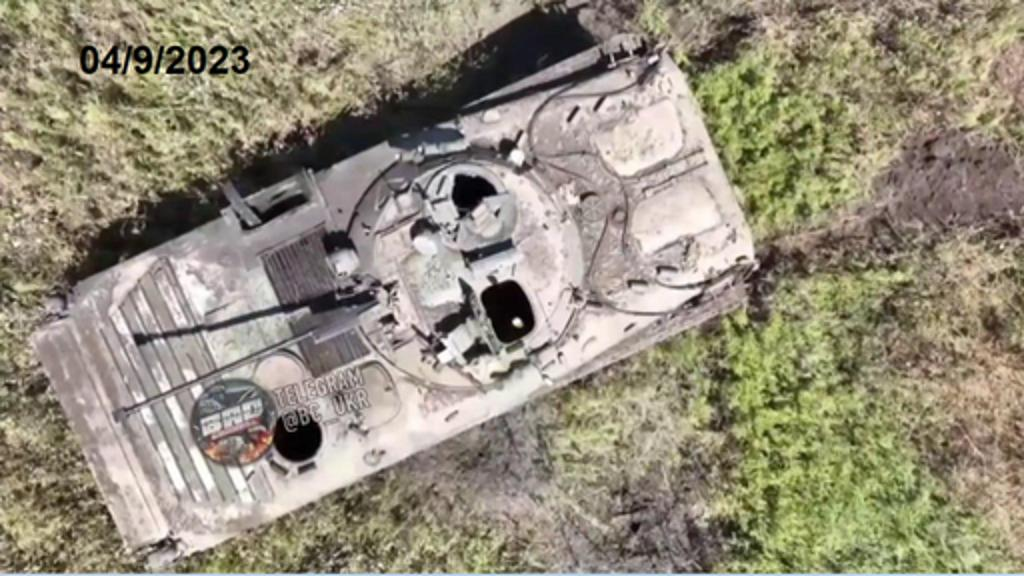APC-IFV: (24, 30, 762, 562)
